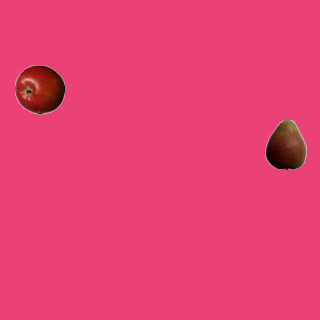Apple Braeburn: (14, 64, 64, 114)
Pear Forelle: (260, 119, 310, 169)
